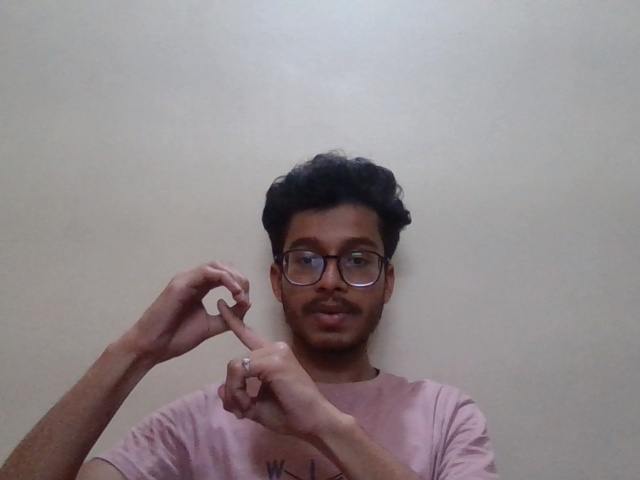Q: (137, 249, 345, 447)
